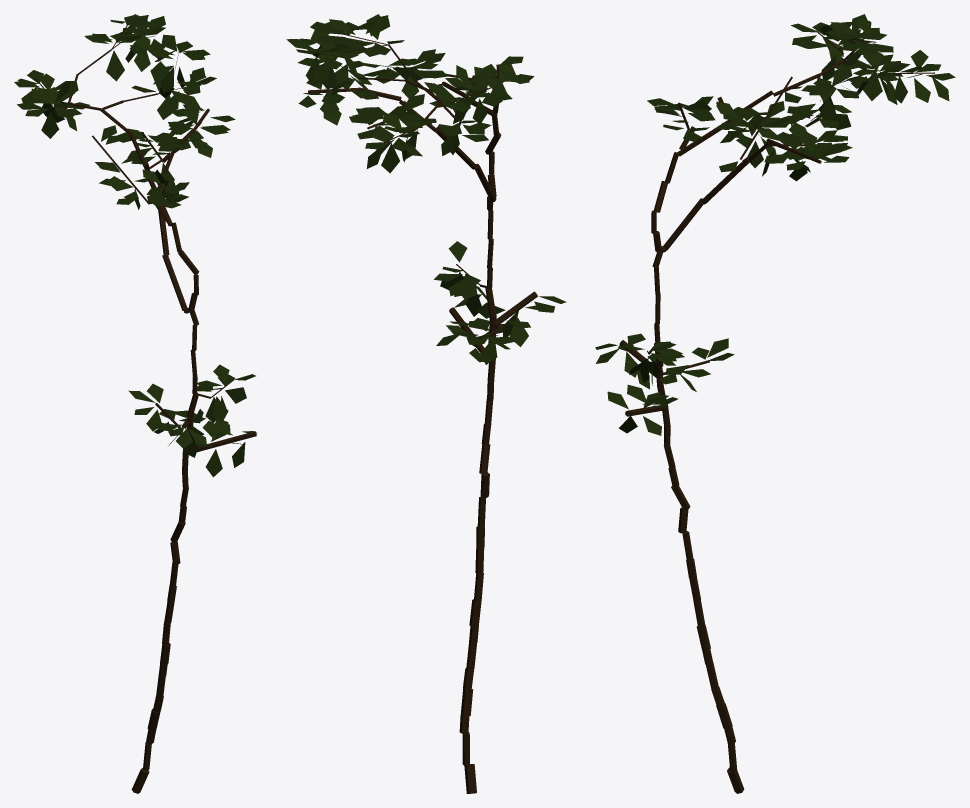
The model's file is 2022_tree_329.obj.
3 views of the same model, side by side, from view 1: azimuth 30°, elevation 25°; view 2: azimuth 150°, elevation 25°; view 3: azimuth 270°, elevation 25° (orthographic). The views are drawn at different scales.
Parts seen in each view (by area): view 1: Leaves, TrunkAndBranches; view 2: Leaves, TrunkAndBranches; view 3: Leaves, TrunkAndBranches.
Boxes of the visible parts, left/top/right/bottom form: Leaves: left=14, top=14, right=257, bottom=477; TrunkAndBranches: left=35, top=20, right=256, bottom=793; Leaves: left=286, top=14, right=566, bottom=364; TrunkAndBranches: left=308, top=32, right=537, bottom=793; Leaves: left=595, top=14, right=955, bottom=435; TrunkAndBranches: left=619, top=30, right=934, bottom=793.
Bounding box in the file's own units: 2.22 × 7.84 × 3.24.
